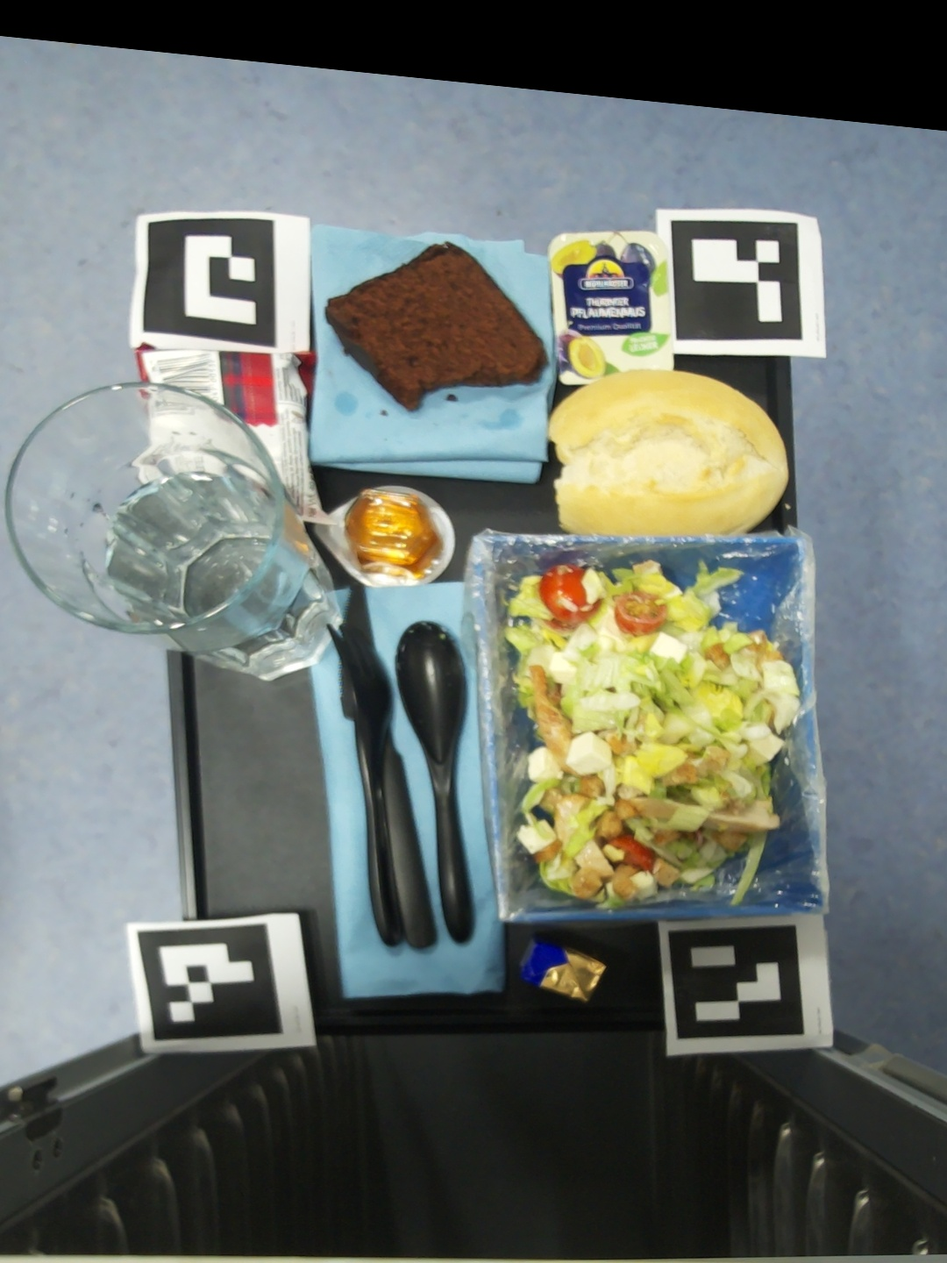bread_roll: (546, 370, 789, 534)
brownie: (326, 242, 548, 412), (449, 397, 458, 404)
butter: (513, 947, 608, 1011)
cookie: (131, 342, 334, 525)
honey: (314, 485, 456, 588)
plum_jam: (548, 230, 674, 384)
salad_main: (504, 558, 801, 910)
water_bottle: (3, 382, 342, 682)
